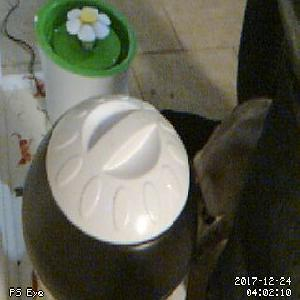cat: (189, 97, 278, 266)
fountain: (31, 1, 136, 77)
